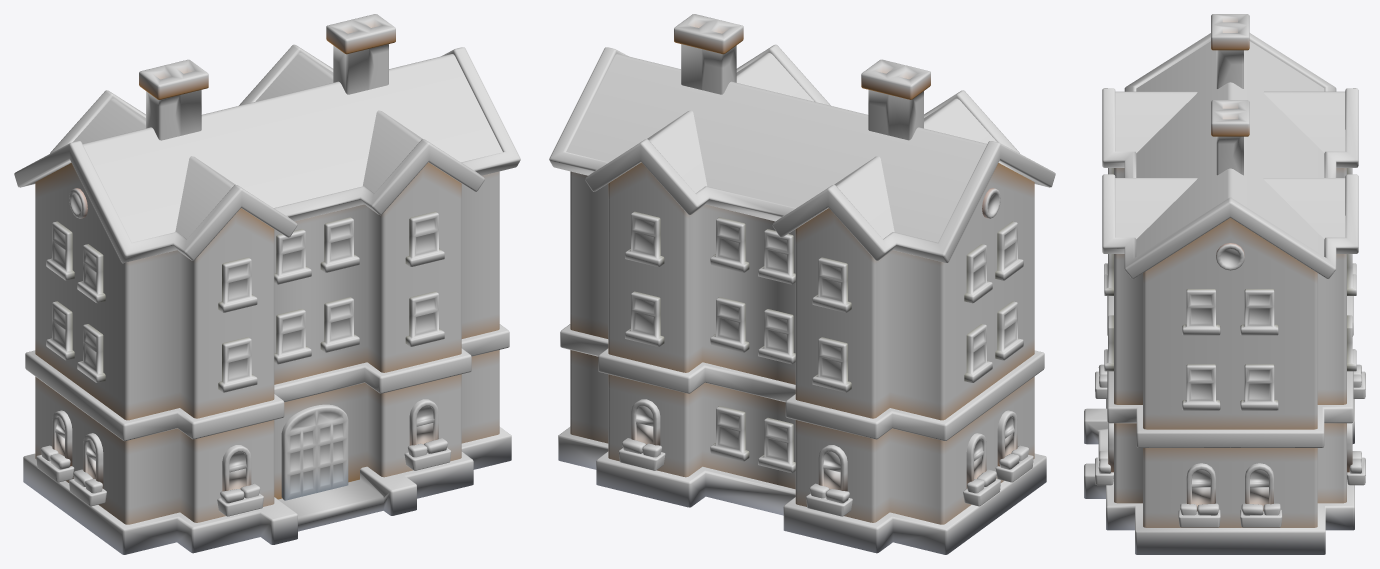
File: Building_083.fbx
The picture shows the model from 3 angles, left to right: view 1: azimuth 30°, elevation 25°; view 2: azimuth 150°, elevation 25°; view 3: azimuth 270°, elevation 25°; orthographic projection. The views are drawn at different scales.
Parts seen in each view (by area): view 1: Building_083; view 2: Building_083; view 3: Building_083.
Boxes of the visible parts, x1,y1,x2,y2 form: Building_083: (14,14,520,554); Building_083: (549,14,1055,554); Building_083: (1084,14,1365,554).
Size of the model in its own units: 1530 by 967 by 1505.
